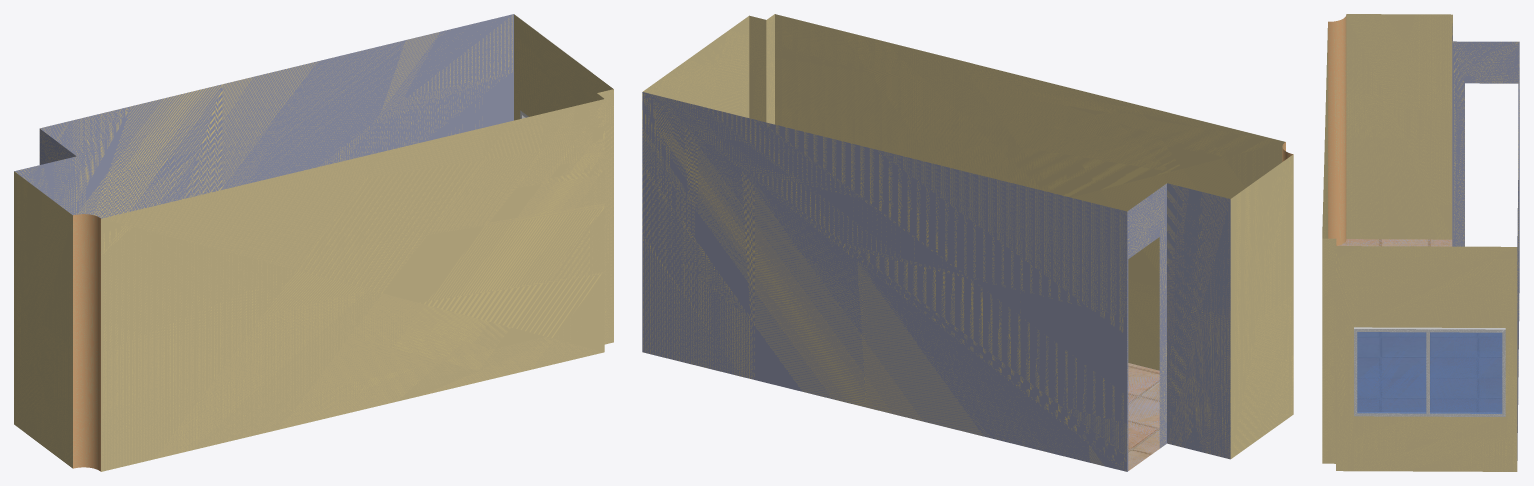
Rendered from DES009.obj.
The picture shows the model from 3 angles, left to right: view 1: azimuth 30°, elevation 25°; view 2: azimuth 150°, elevation 25°; view 3: azimuth 270°, elevation 25°; orthographic projection. The views are drawn at different scales.
Parts seen in each view (by area): view 1: Mesh6 DES009 Model; view 2: Mesh6 DES009 Model; view 3: Mesh6 DES009 Model, Mesh1 ventana2_1 DES009 Model.
Boxes of the visible parts, box(x1,y1,x2,y2) form: Mesh6 DES009 Model: box(14, 14, 613, 471); Mesh6 DES009 Model: box(642, 14, 1293, 471); Mesh6 DES009 Model: box(1322, 14, 1519, 471); Mesh1 ventana2_1 DES009 Model: box(1354, 327, 1505, 416).
Bounding box in the file's own units: 8.04 × 3.6 × 2.86.
Materials: 9 (1 with a texture image).
